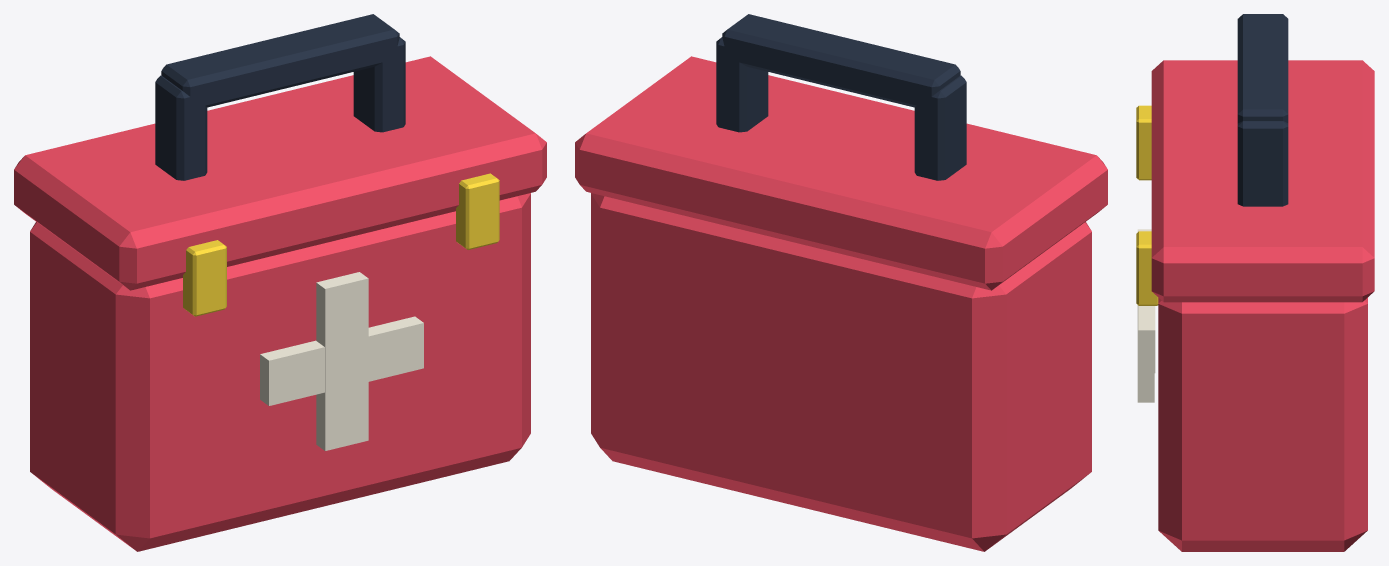
The model's file is fps_mega.glb.
3 renders of one model, left to right at view 1: azimuth 30°, elevation 25°; view 2: azimuth 150°, elevation 25°; view 3: azimuth 270°, elevation 25°, orthographic. The views are drawn at different scales.
Visible parts, largest first — view 1: detail_Coral, detail_Ink navy, detail_Vanilla plastic, detail_Lemon; view 2: detail_Coral, detail_Ink navy; view 3: detail_Coral, detail_Ink navy, detail_Lemon, detail_Vanilla plastic.
Part boxes in pixels (box(x1,y1,x2,y2)): detail_Coral: box(14, 56, 546, 551); detail_Ink navy: box(155, 14, 405, 180); detail_Vanilla plastic: box(260, 272, 423, 450); detail_Lemon: box(183, 173, 499, 316); detail_Coral: box(575, 56, 1107, 551); detail_Ink navy: box(716, 14, 966, 180); detail_Coral: box(1151, 60, 1374, 551); detail_Ink navy: box(1237, 14, 1288, 206); detail_Lemon: box(1136, 105, 1158, 305); detail_Vanilla plastic: box(1137, 229, 1155, 402).
Bounding box in the file's own units: 0.69 × 0.66 × 0.3525.
